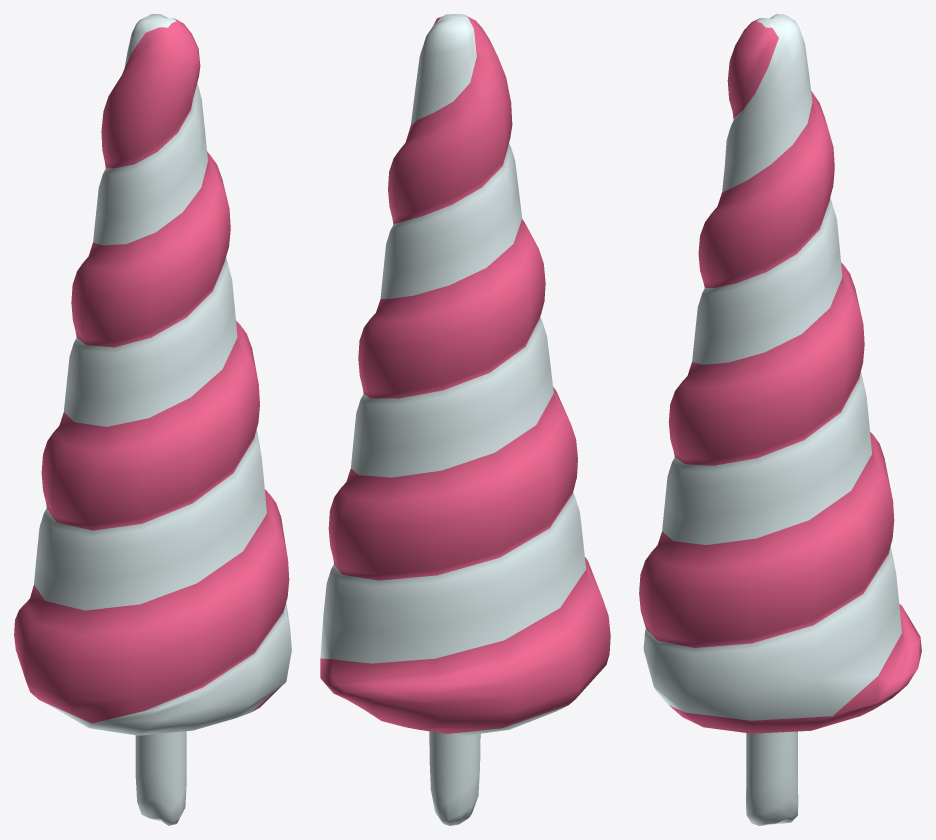
Rendered from Tree_Candy_06.fbx.
The picture shows the model from 3 angles, left to right: view 1: azimuth 30°, elevation 25°; view 2: azimuth 150°, elevation 25°; view 3: azimuth 270°, elevation 25°; orthographic projection.
Parts seen in each view (by area): view 1: Tree_Candy_06_LOD0; view 2: Tree_Candy_06_LOD0; view 3: Tree_Candy_06_LOD0.
Part boxes in pixels (box(x1,y1,x2,y2)): Tree_Candy_06_LOD0: box(14, 14, 291, 825); Tree_Candy_06_LOD0: box(320, 14, 610, 825); Tree_Candy_06_LOD0: box(639, 14, 921, 825).
Size of what is drawn, in the model's own units: 549 by 1722 by 548.
